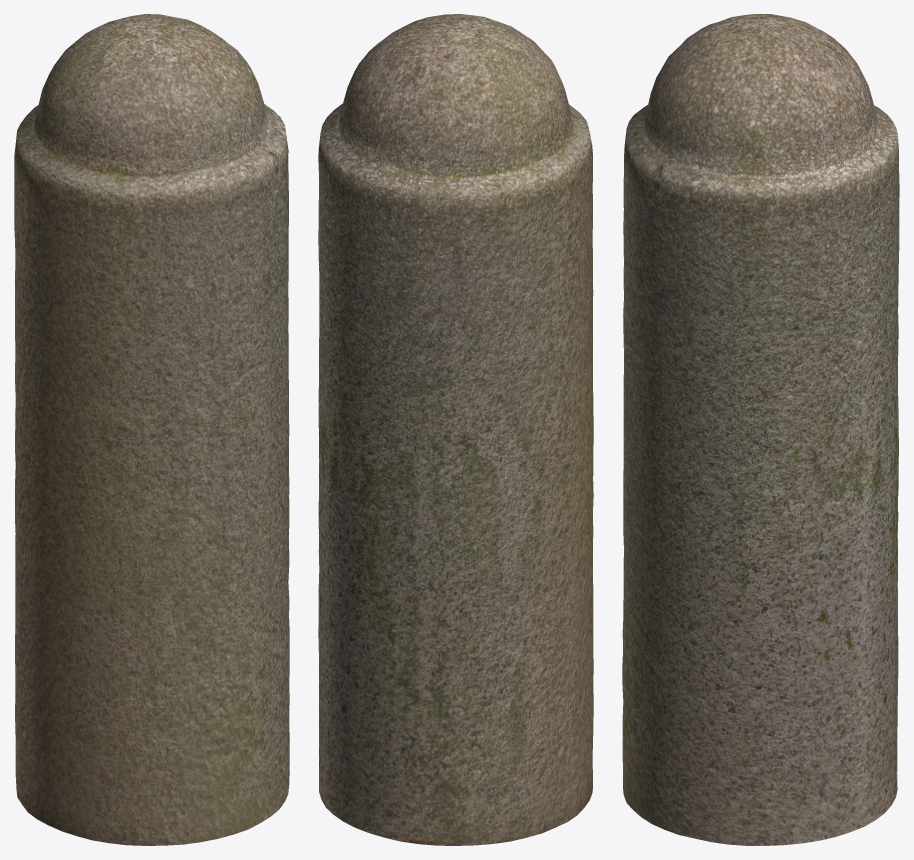
File: concrete-bollard.glb
3 renders of one model, left to right at view 1: azimuth 30°, elevation 25°; view 2: azimuth 150°, elevation 25°; view 3: azimuth 270°, elevation 25°, orthographic.
Parts seen in each view (by area): view 1: Object_0; view 2: Object_0; view 3: Object_0.
Part boxes in pixels (x1=…): Object_0: x1=14, y1=14, x2=289, y2=845; Object_0: x1=318, y1=14, x2=593, y2=845; Object_0: x1=622, y1=14, x2=899, y2=845.
Size of the model in its own units: 0.2457 by 0.75 by 0.2473.
1 material, 1 textured.
